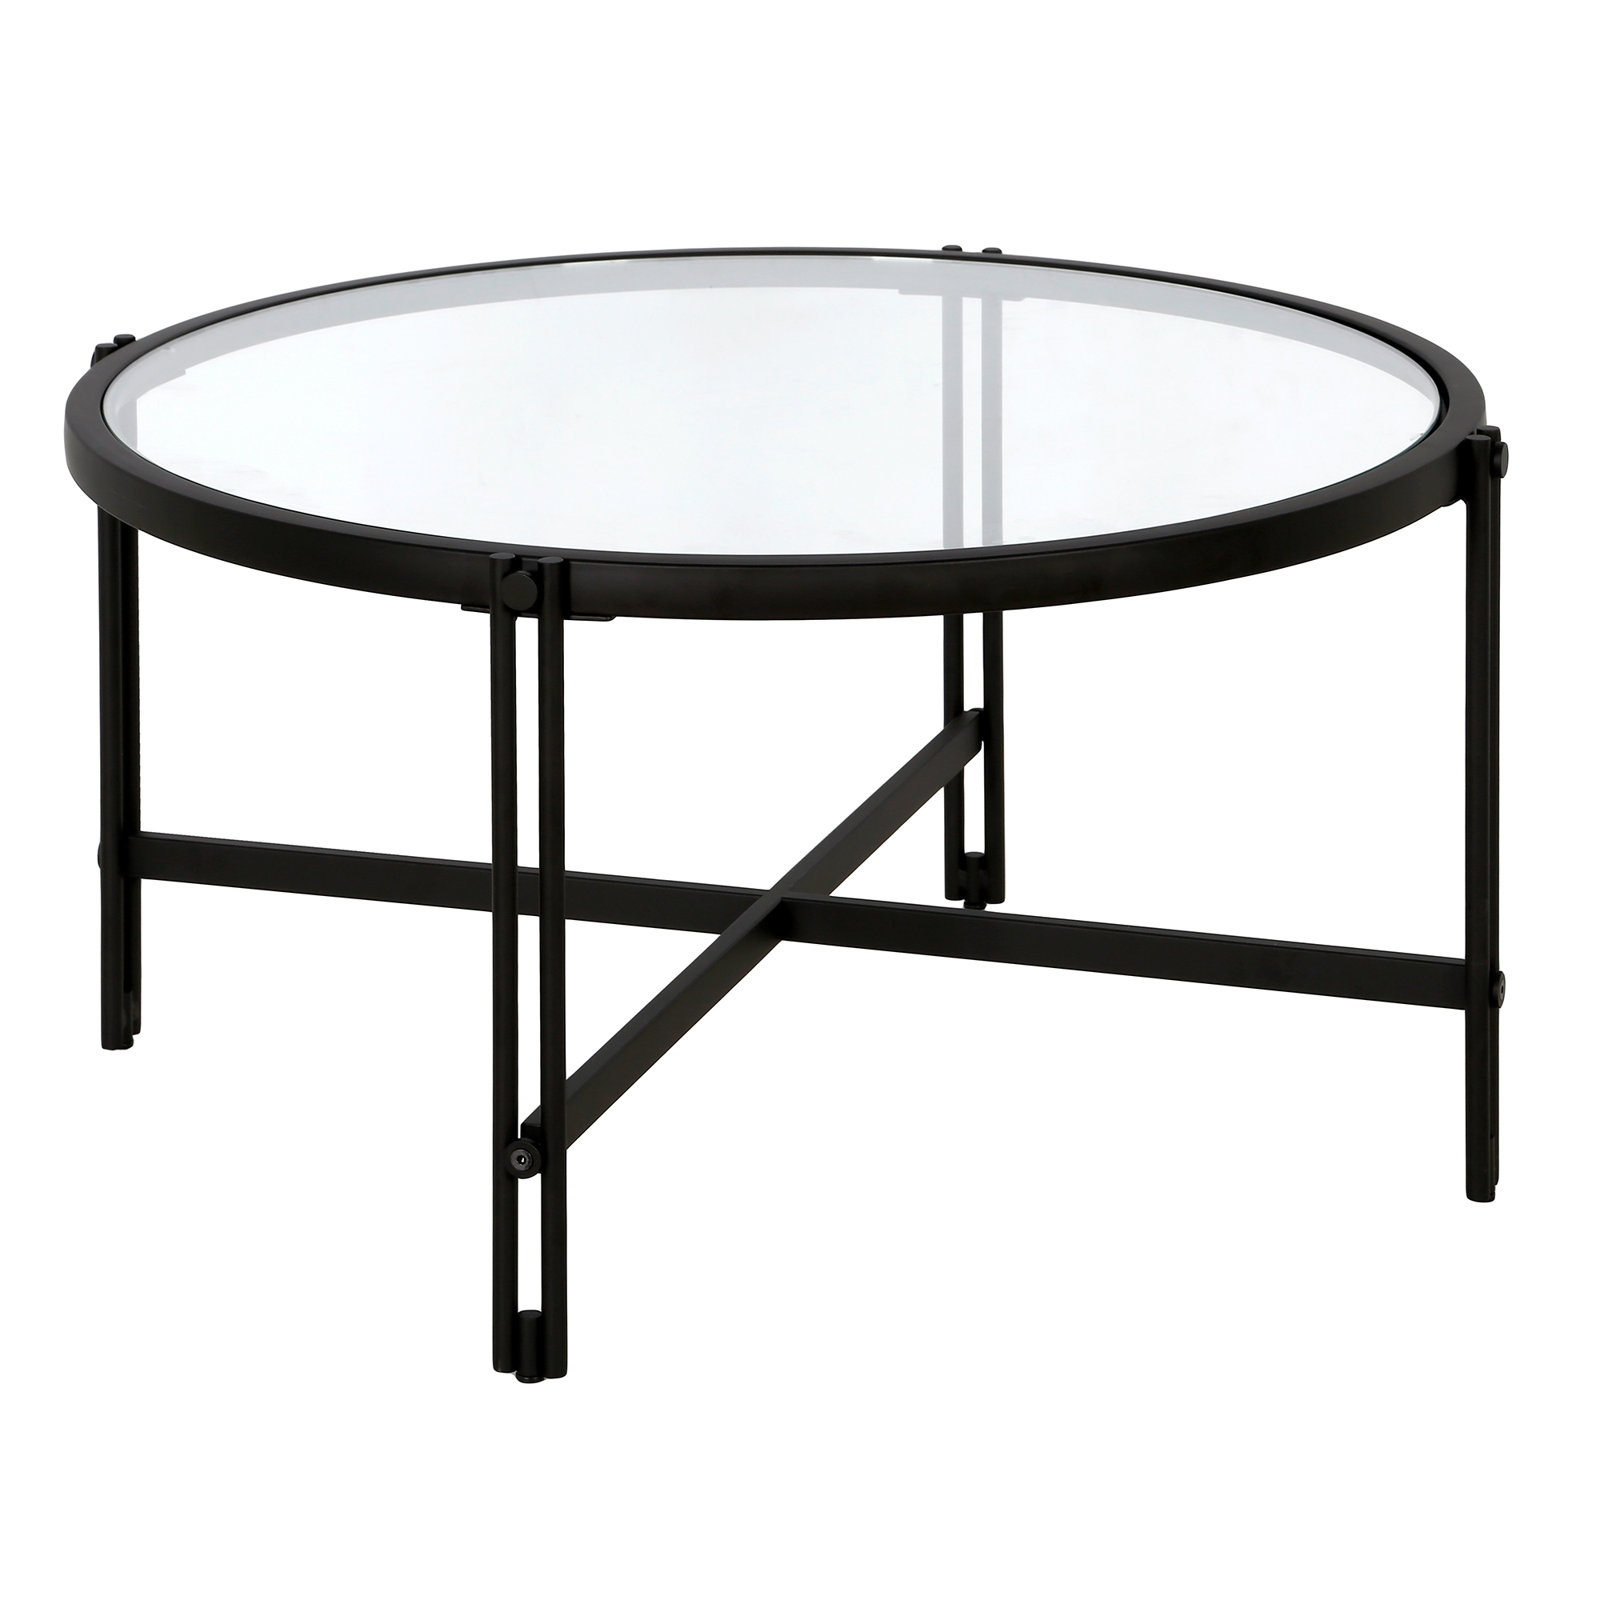obstacle: (66, 249, 1505, 1382)
